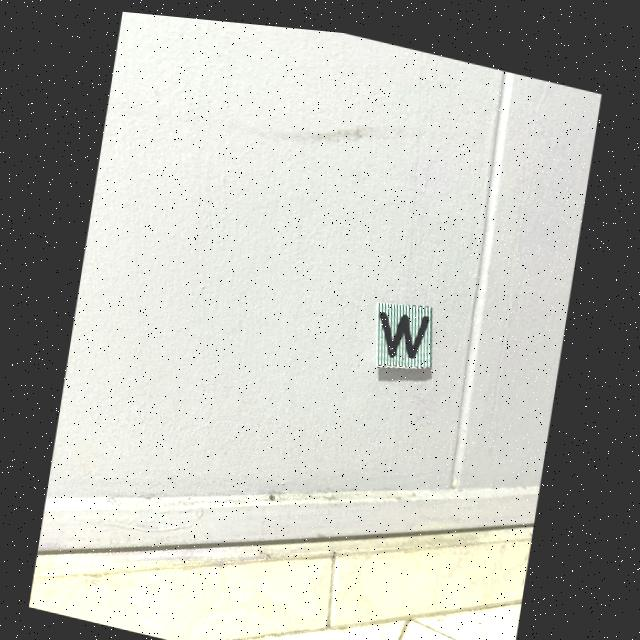W: (380, 304, 430, 351)
